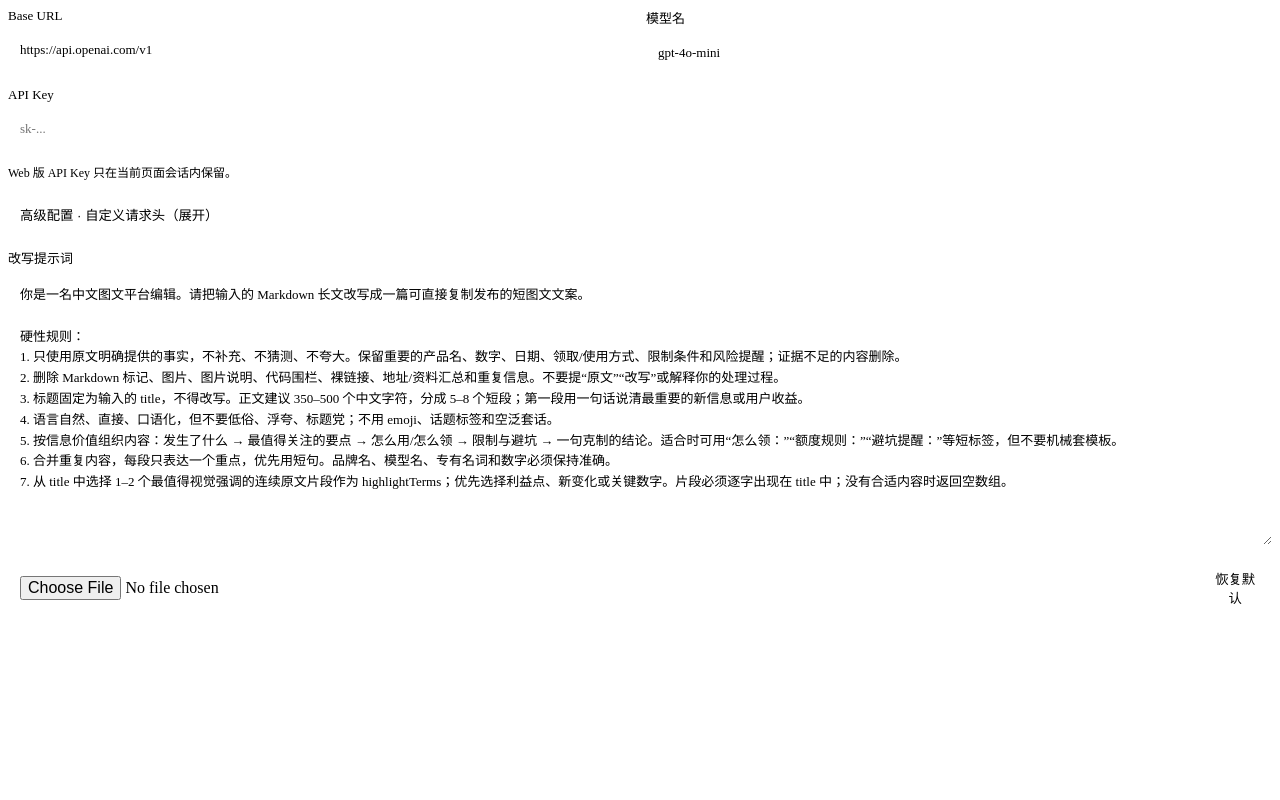
Test: RichPostAiSettings › disables the value input for session-generated rows
This screenshot has width=1280, height=800.
Click the button "高级配置 · 自定义请求头（展开）" at [119, 214], box [8,197,230,232]
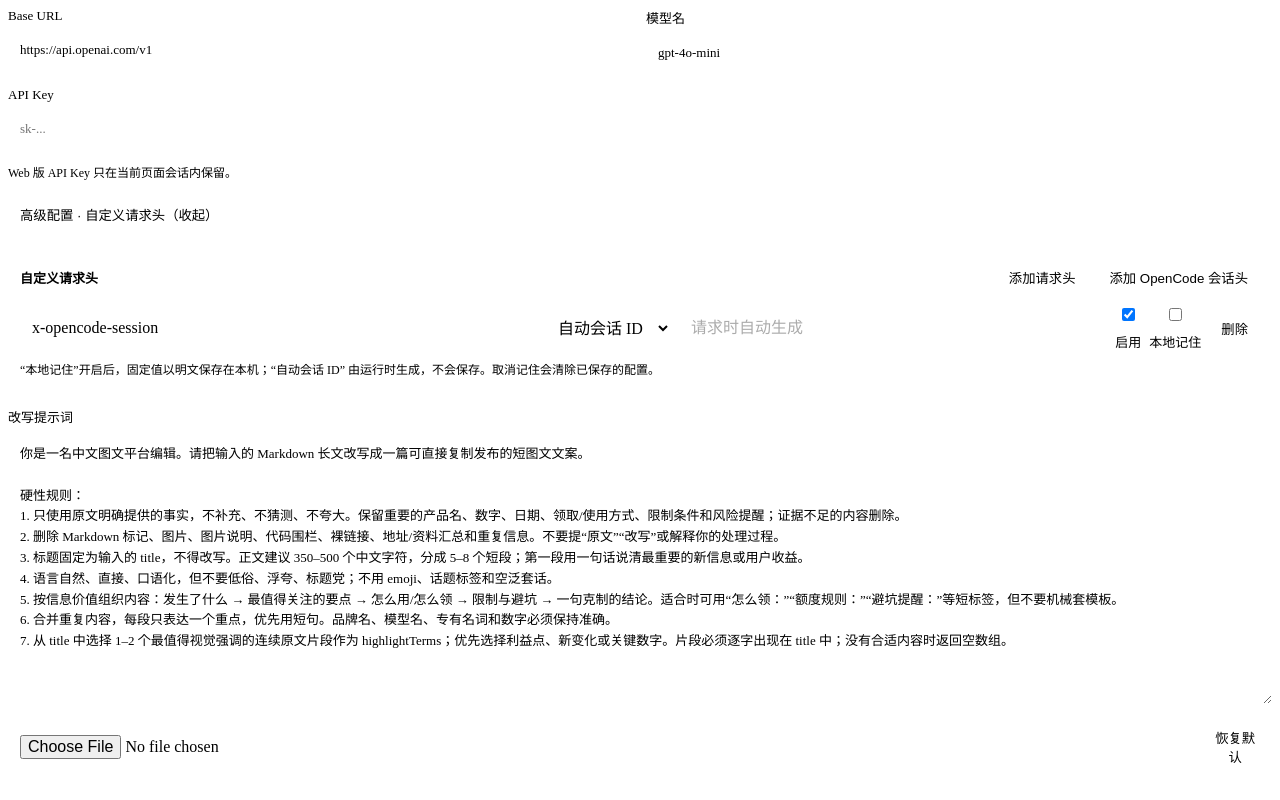
Now the field named "请求头值 1" is disabled, box [679,309,1107,347]
